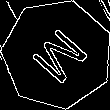M_SE: (22, 21, 92, 88)
